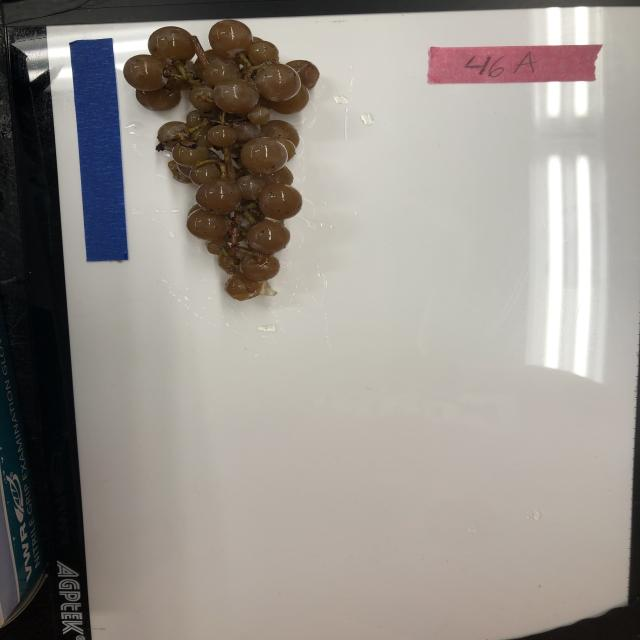grape_cluster: (124, 19, 326, 308)
index: (424, 45, 610, 85)
measure_label: (67, 36, 130, 263)
